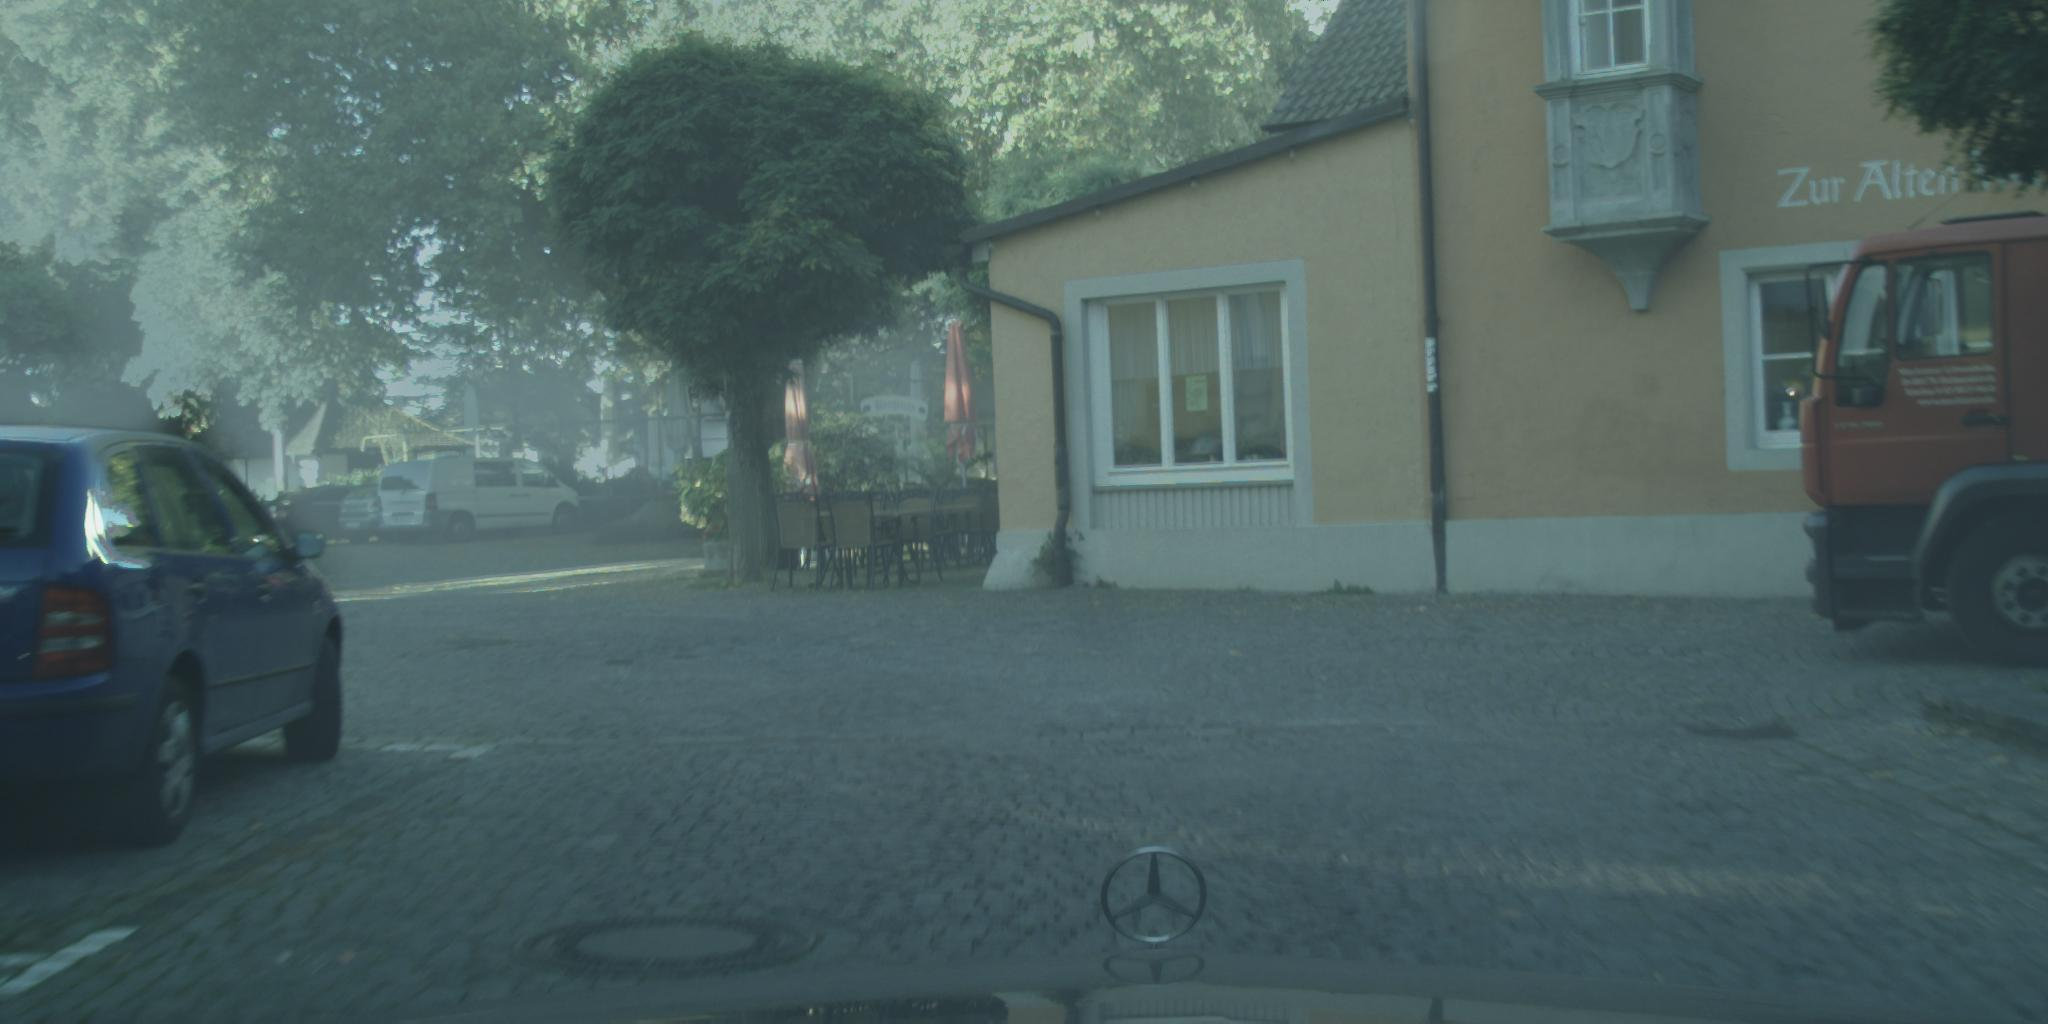car: (1, 424, 346, 849), (375, 457, 581, 547), (276, 486, 377, 541), (337, 487, 394, 549)
truck: (1799, 212, 2048, 670)
